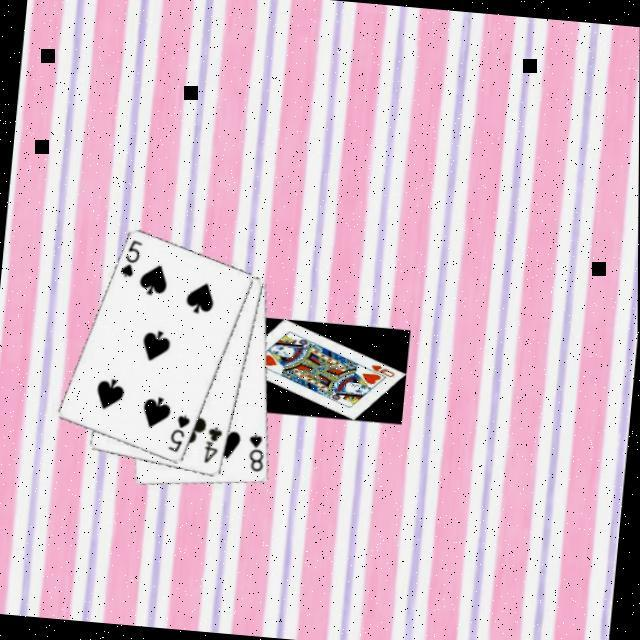4C: (202, 425, 228, 469)
5S: (166, 412, 195, 458), (118, 238, 147, 283)
8S: (245, 432, 271, 477)
